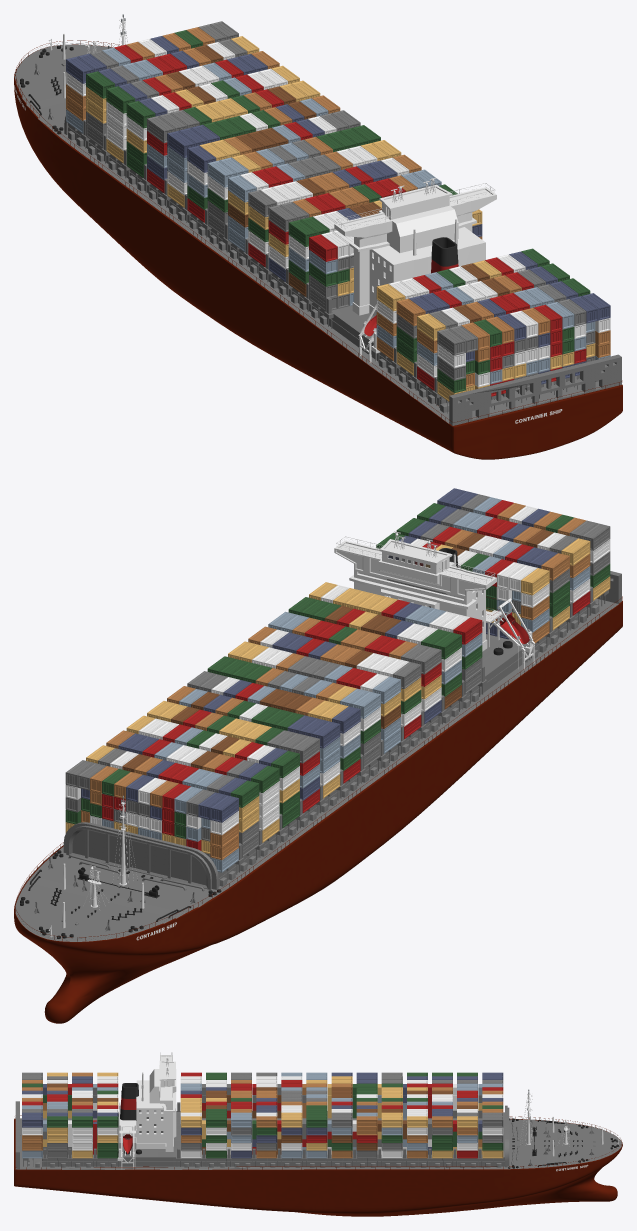
File: 集装箱船.glb
3 renders of one model, top to bottom at view 1: azimuth 30°, elevation 25°; view 2: azimuth 150°, elevation 25°; view 3: azimuth 270°, elevation 25°, orthographic. The views are drawn at different scales.
Visible parts, largest first — view 1: jzxc; view 2: jzxc; view 3: jzxc.
Boxes of the visible parts, x1,y1,x2,y2 form: jzxc: (14, 14, 622, 459); jzxc: (14, 488, 622, 1023); jzxc: (14, 1052, 622, 1216).
Size of the model in its own units: 24.9 by 32.77 by 124.
24 materials, 22 textured.
